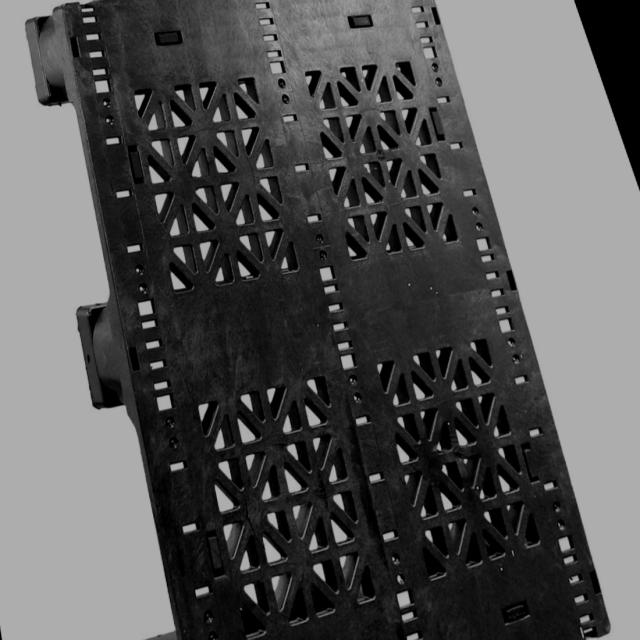non-igps: (12, 0, 621, 640)
